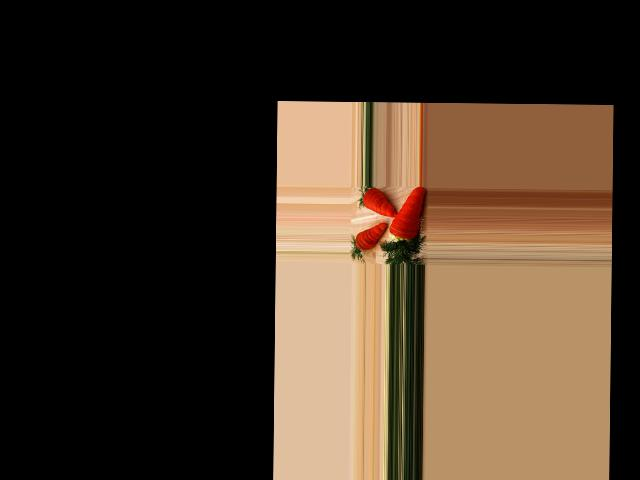carrot: (385, 186, 428, 244)
